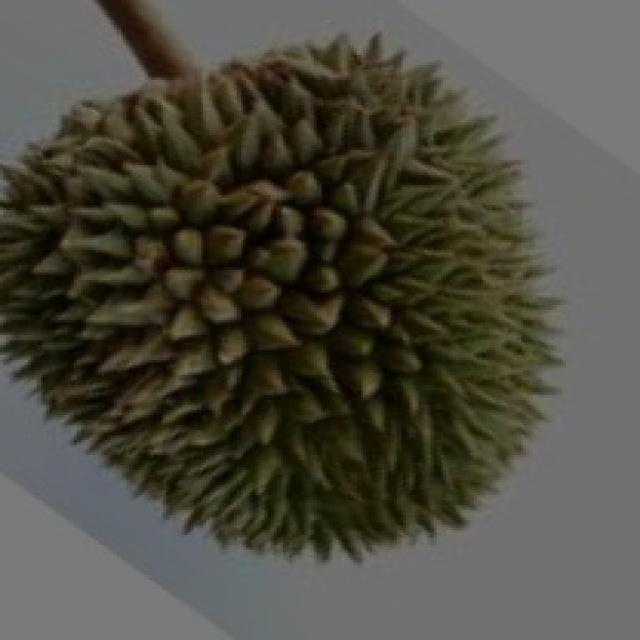fruit: (0, 209, 372, 612), (0, 0, 335, 412)
